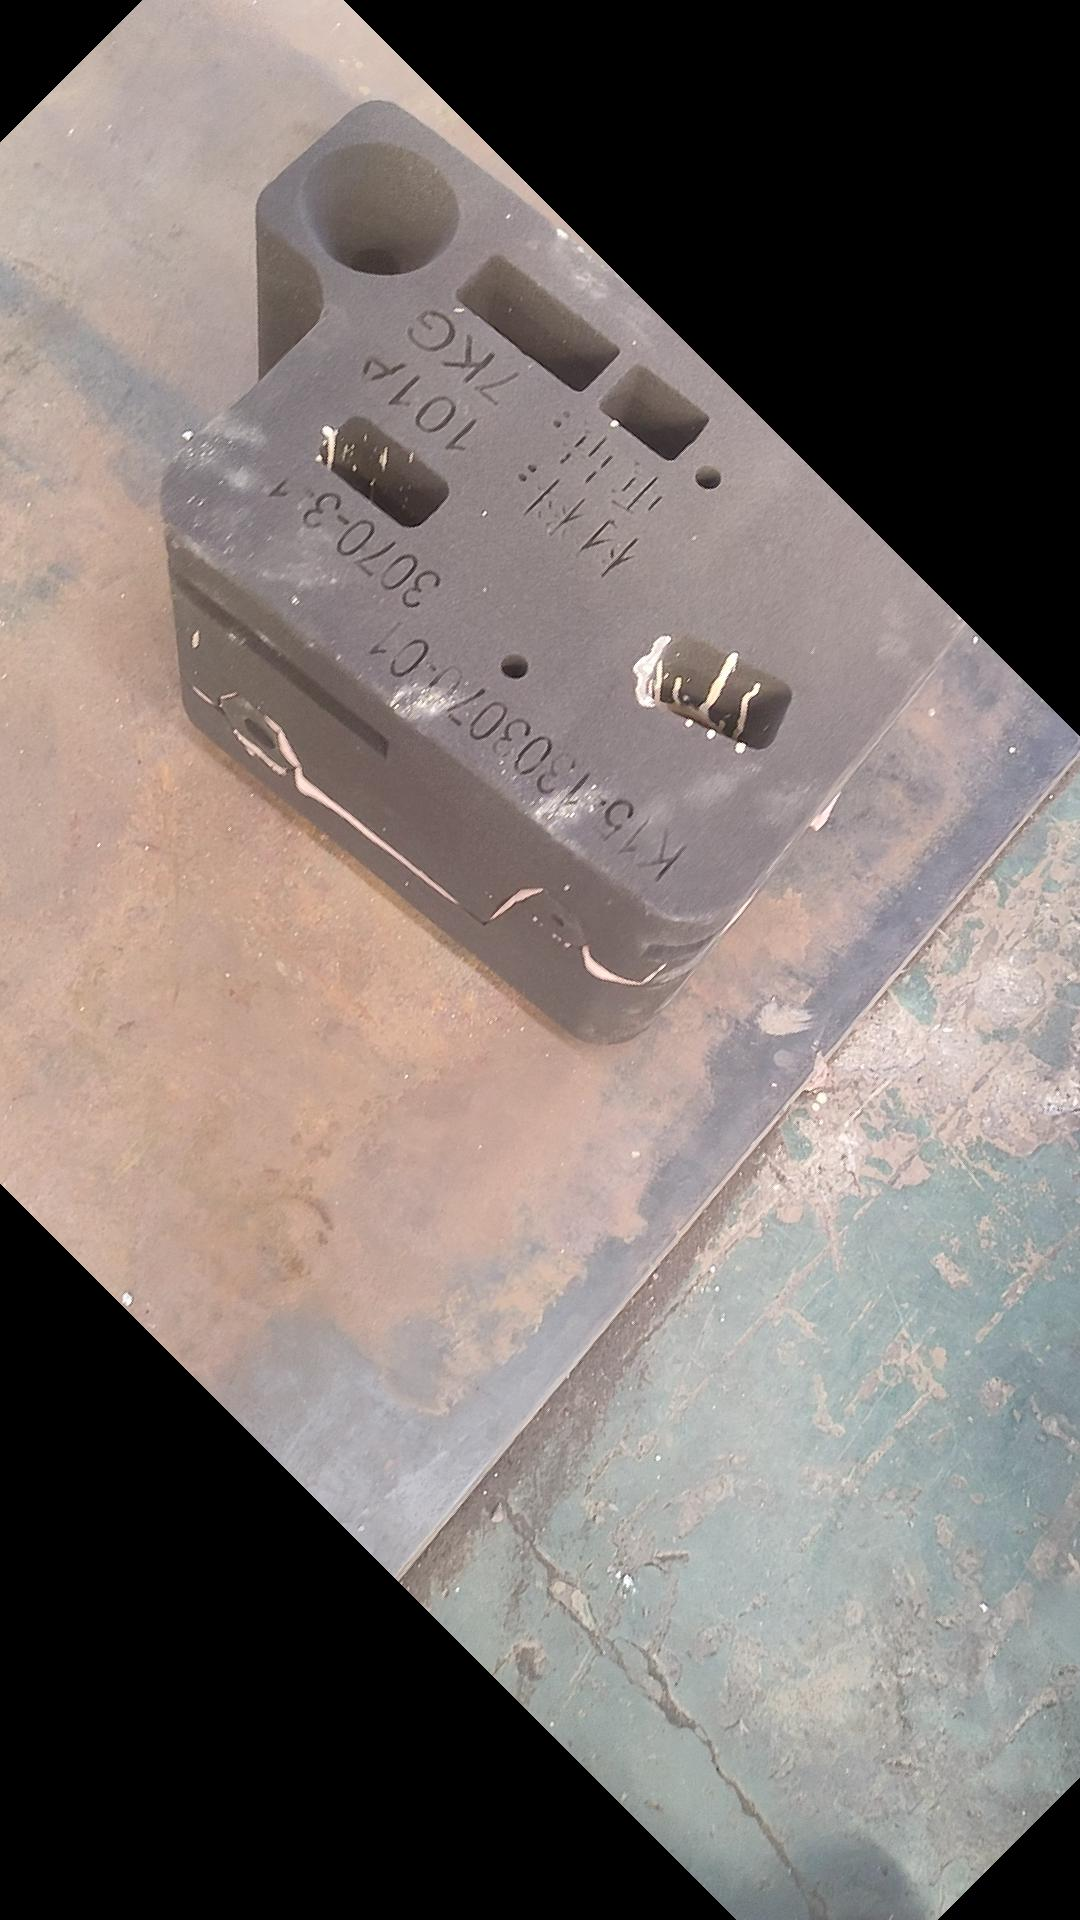pouring hole: (303, 142, 462, 278)
